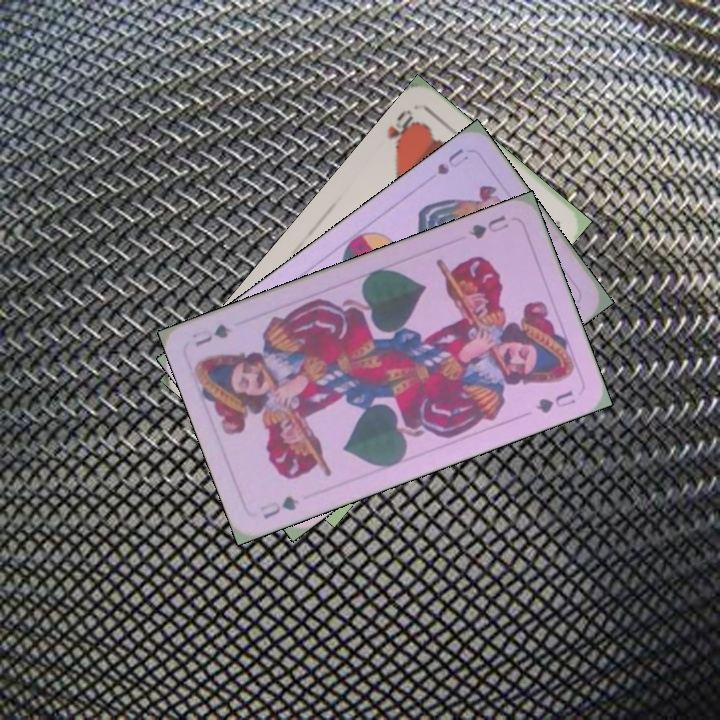GU: (464, 211, 512, 242), (256, 492, 302, 522)
HO: (383, 105, 421, 151)
SU: (433, 144, 471, 178)
